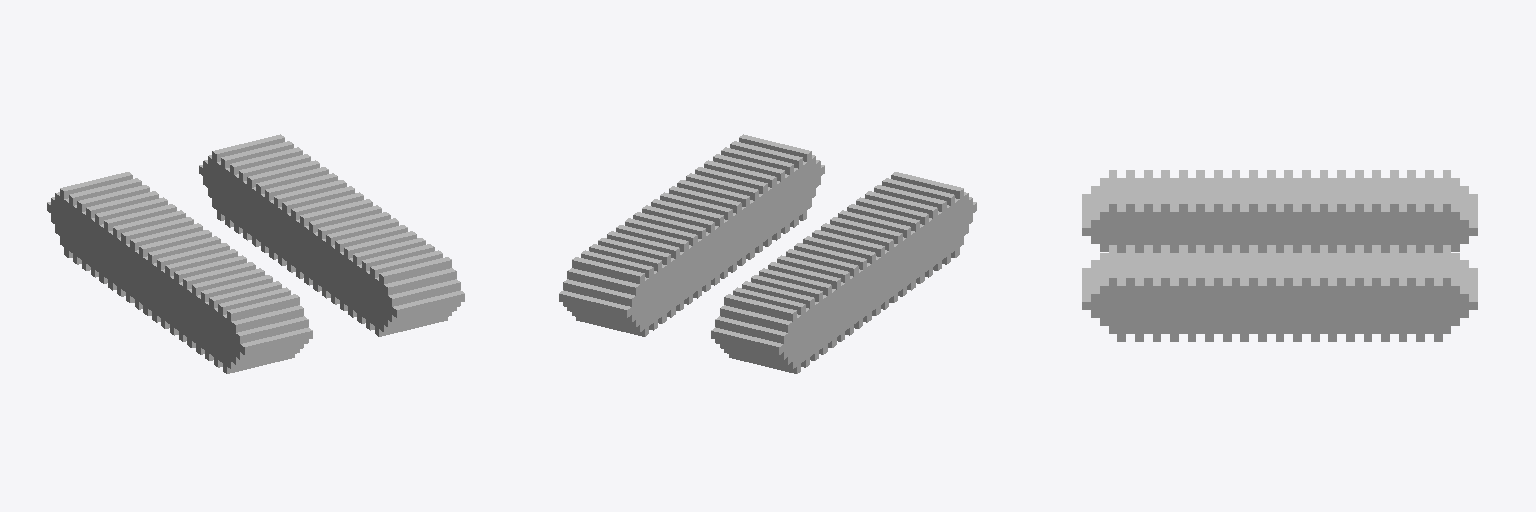
The model's file is Tankwheels 1.obj.
The picture shows the model from 3 angles: view 1: azimuth 30°, elevation 25°; view 2: azimuth 150°, elevation 25°; view 3: azimuth 270°, elevation 25°; orthographic projection.
Bounding box in the file's own units: 29 × 8 × 45.